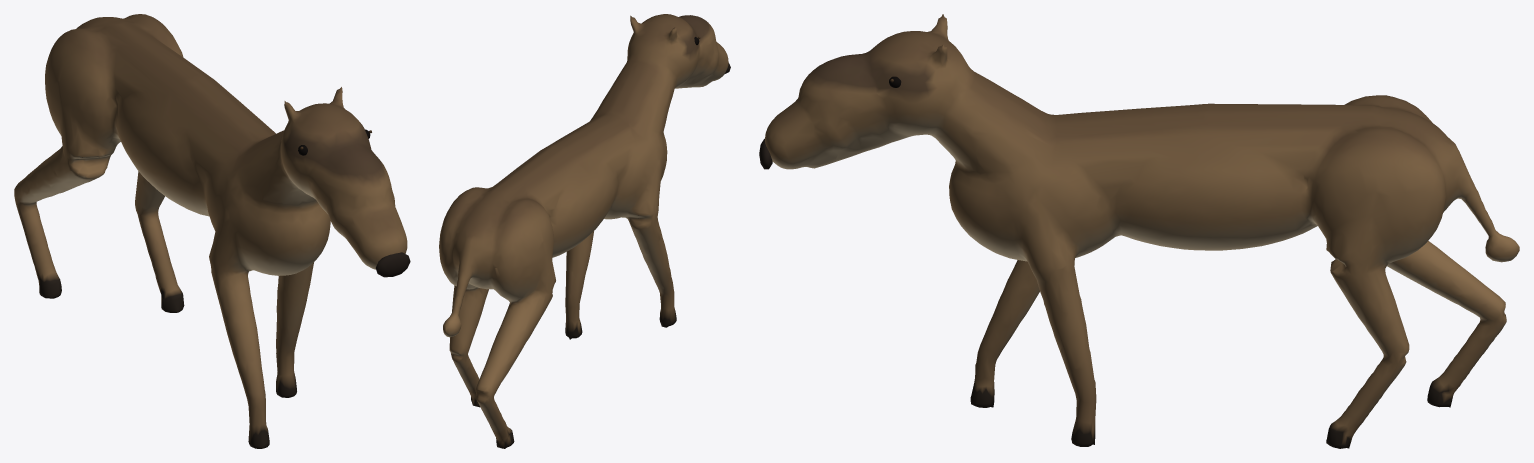
The model's file is HyracodonNebraskensis.fbx.
The picture shows the model from 3 angles, left to right: view 1: azimuth 30°, elevation 25°; view 2: azimuth 150°, elevation 25°; view 3: azimuth 270°, elevation 25°; orthographic projection. The views are drawn at different scales.
Parts seen in each view (by area): view 1: HyracodonNebraskensis; view 2: HyracodonNebraskensis; view 3: HyracodonNebraskensis.
Boxes of the visible parts, x1,y1,x2,y2 form: HyracodonNebraskensis: [14, 14, 410, 448]; HyracodonNebraskensis: [439, 14, 730, 448]; HyracodonNebraskensis: [759, 14, 1519, 448].
Size of the model in its own units: 0.3678 by 1.04 by 1.81.
